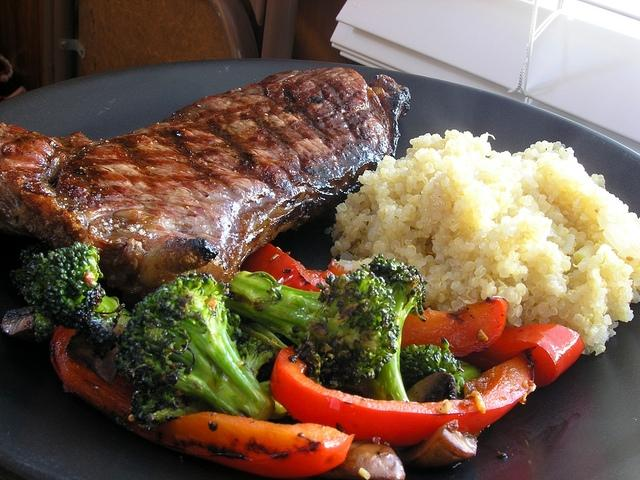bell pepper: (52, 325, 356, 480), (240, 243, 510, 357), (269, 346, 537, 446), (477, 324, 585, 388)
broccoli: (116, 270, 276, 430), (227, 268, 395, 391), (9, 243, 132, 360), (400, 338, 464, 394), (236, 337, 276, 371)
